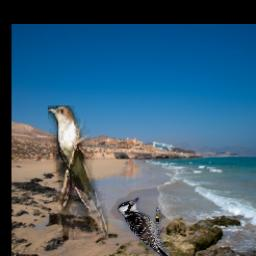Cuckoo: (48, 107, 108, 241)
Woodpecker: (118, 197, 173, 256)
